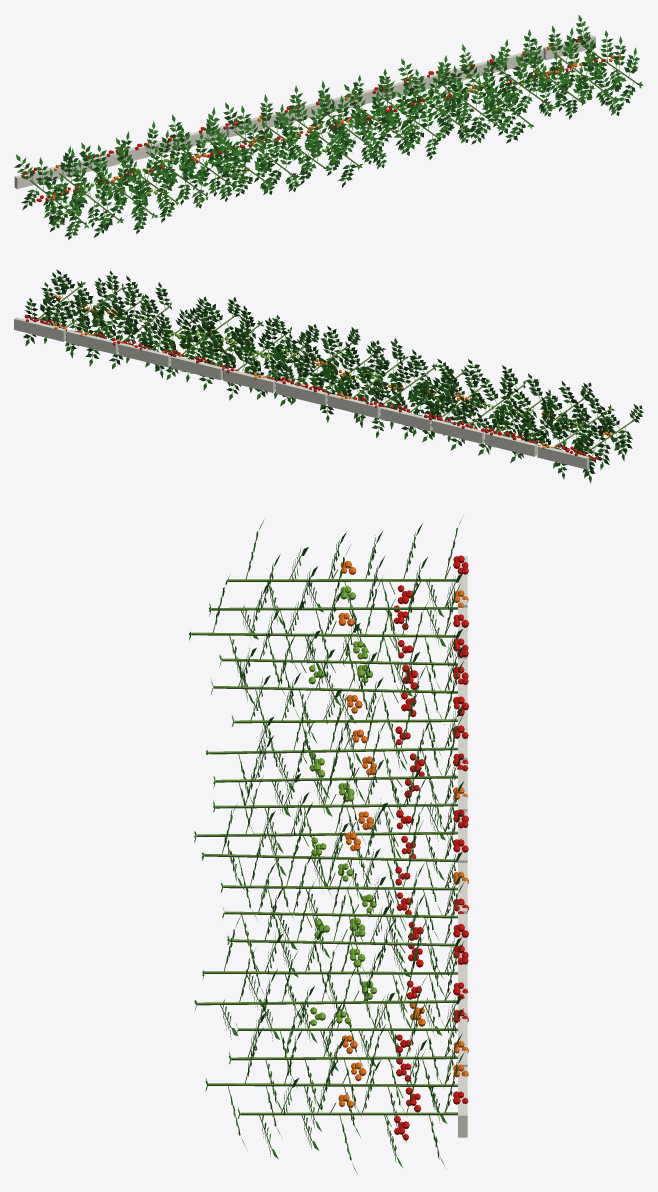
Rendered from row17.obj.
3 views of the same model, one above another, from view 1: azimuth 30°, elevation 25°; view 2: azimuth 150°, elevation 25°; view 3: azimuth 270°, elevation 25° (orthographic). The views are drawn at different scales.
Visible parts, largest first — view 1: row17; view 2: row17; view 3: row17.
Part boxes in pixels (x1,y1,x2,y2): row17: [14, 15, 643, 239]; row17: [14, 269, 643, 483]; row17: [189, 515, 468, 1174].
Size of the model in its own units: 11.09 by 1.17 by 2.32.
